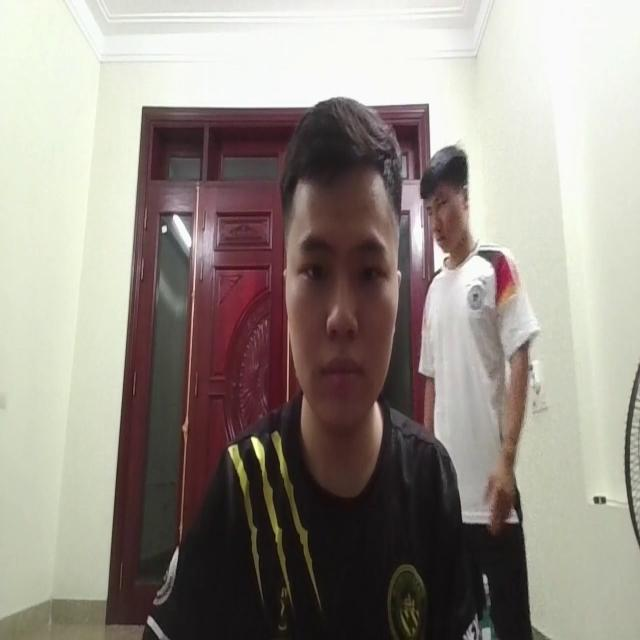extra_person: (417, 135, 540, 610)
student: (200, 99, 444, 640)
